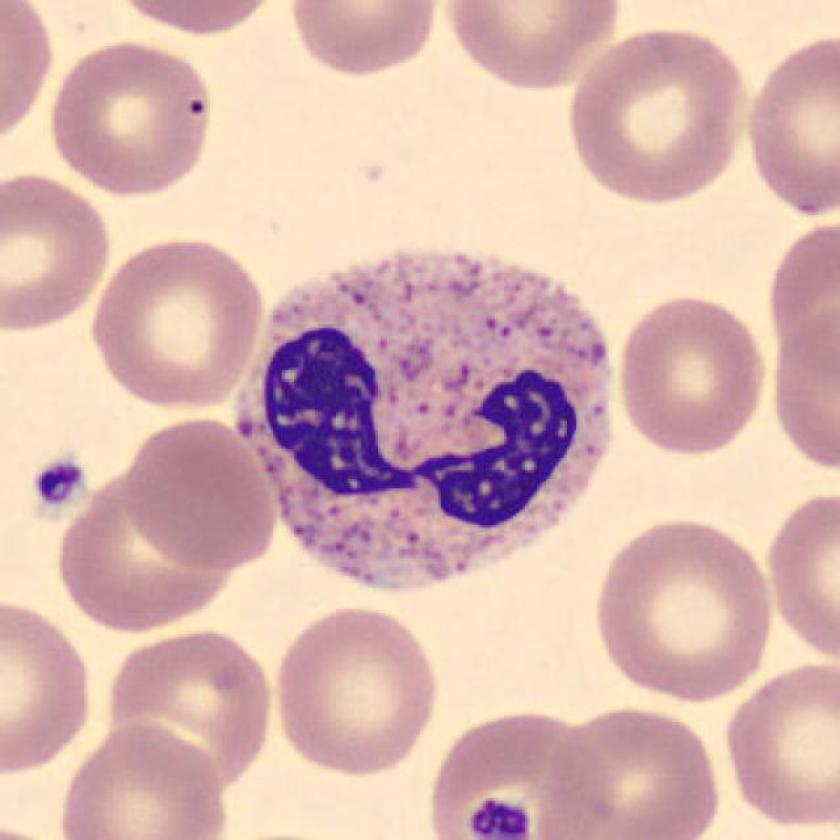neutrophil: (239, 253, 617, 590)
